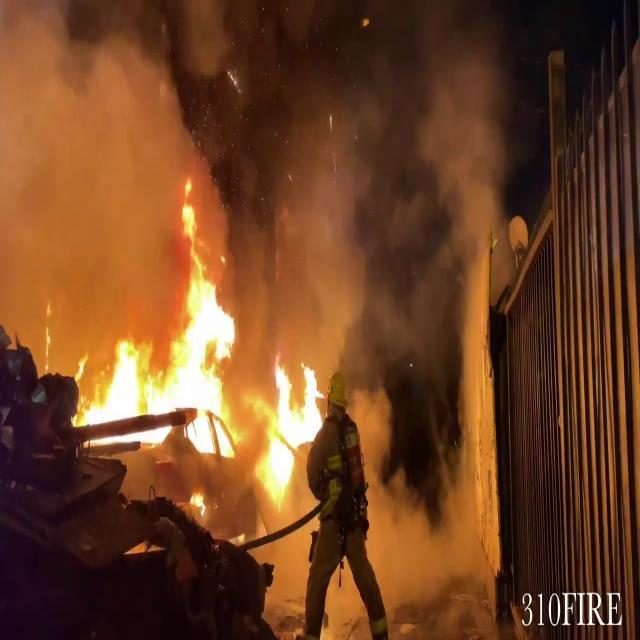Fire: (73, 201, 329, 484)
Smoke: (0, 1, 518, 345)
